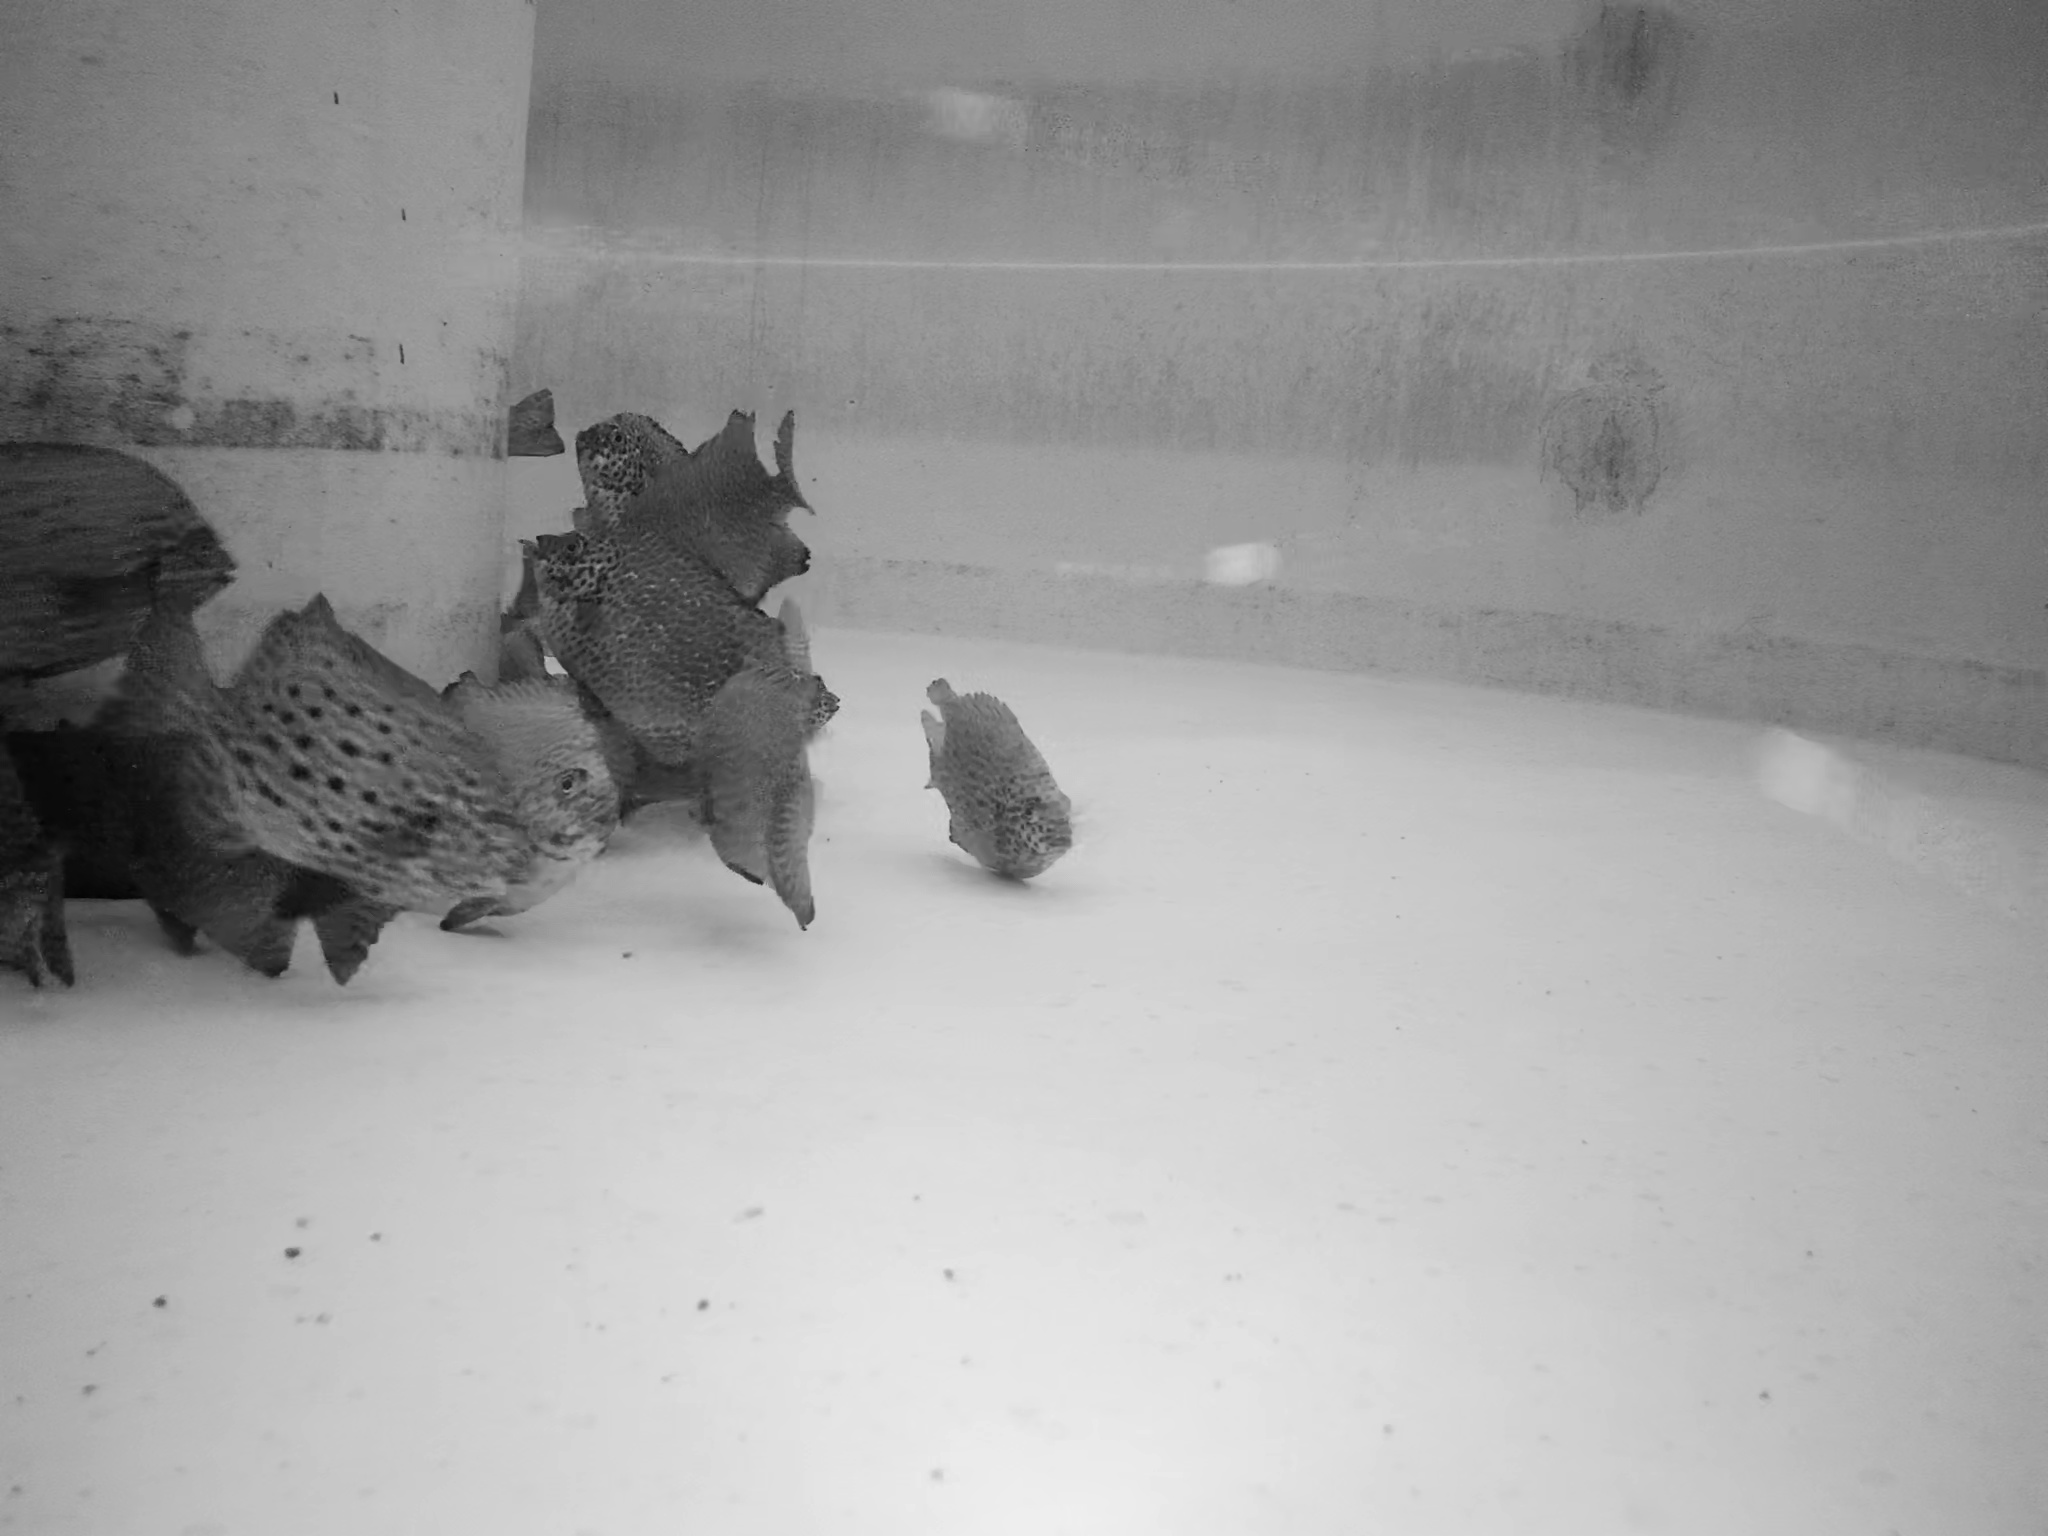fish: (211, 599, 524, 925), (192, 686, 403, 986), (539, 532, 810, 763), (2, 437, 237, 674), (84, 639, 273, 895), (689, 637, 816, 925), (440, 660, 616, 858), (611, 424, 819, 589), (921, 670, 1080, 883), (572, 411, 690, 521), (44, 821, 90, 986), (2, 874, 53, 1012), (505, 376, 561, 457)
